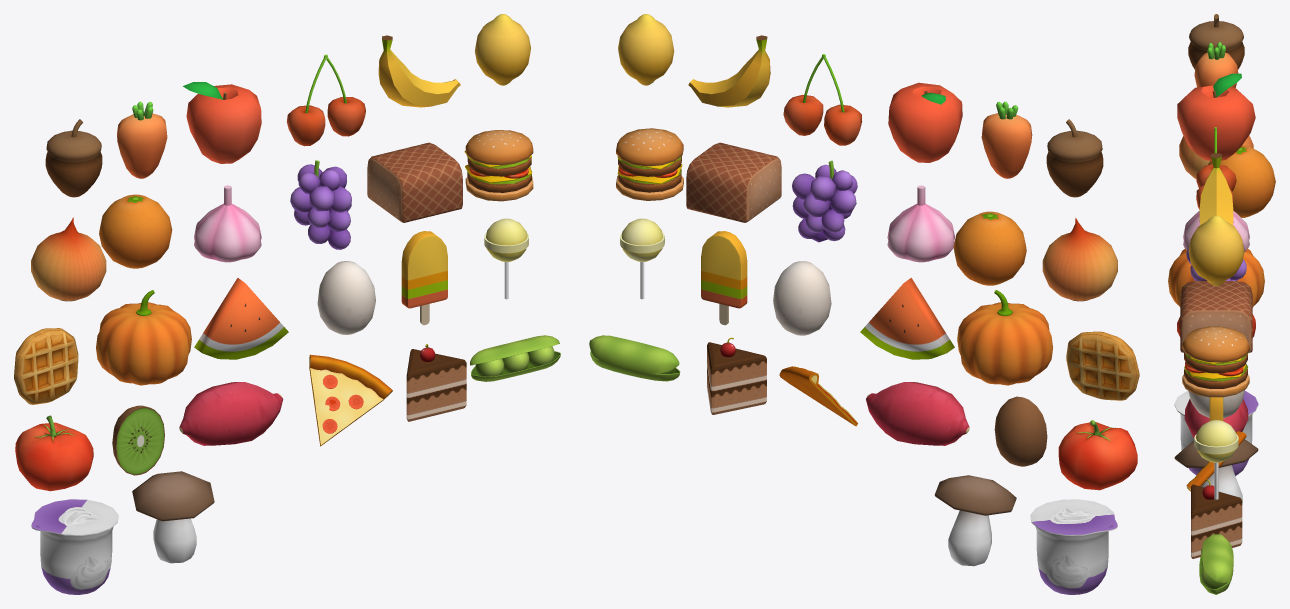
The model's file is food01.glb.
3 views of the same model, side by side, from view 1: azimuth 30°, elevation 25°; view 2: azimuth 150°, elevation 25°; view 3: azimuth 270°, elevation 25° (orthographic).
Parts seen in each view (by area): view 1: pumpkin_pumpkin_0, yogurt_yogurt_0, ham_ham_0, yam_yam_0, apple_apple_0, mushroom_mushroom_0, pizza_pizza_0, Hambuger_hambuger_0, watermelon_watermelon_0, tomato_tomato_0, onion_onion_0, orange_orange_0 (+14 smaller); view 2: pumpkin_pumpkin_0, yogurt_yogurt_0, ham_ham_0, yam_yam_0, apple_apple_0, mushroom_mushroom_0, Hambuger_hambuger_0, watermelon_watermelon_0, tomato_tomato_0, onion_onion_0, orange_orange_0, waffle_waffle_0 (+14 smaller); view 3: apple_apple_0, Hambuger_hambuger_0, ham_ham_0, lemon_lemon_0, cake_cake_0, orange_orange_0, acorn_acorn_0, pea_pea_0, candy_candy_0, mushroom_mushroom_0, pumpkin_pumpkin_0, banana_banana_0 (+10 smaller).
Boxes of the visible parts, x1,y1,x2,y2 form: pumpkin_pumpkin_0: (96,290,191,385); yogurt_yogurt_0: (31,499,118,594); ham_ham_0: (367,142,462,222); yam_yam_0: (179,382,283,445); apple_apple_0: (183,82,261,163); mushroom_mushroom_0: (132,471,214,563); pizza_pizza_0: (309,354,392,446); Hambuger_hambuger_0: (464,130,533,201); watermelon_watermelon_0: (194,278,288,359); tomato_tomato_0: (15,415,93,491); onion_onion_0: (31,217,106,301); orange_orange_0: (99,194,172,268); pumpkin_pumpkin_0: (957,290,1052,385); yogurt_yogurt_0: (1030,499,1117,594); ham_ham_0: (686,142,781,222); yam_yam_0: (866,382,969,445); apple_apple_0: (888,82,962,162); mushroom_mushroom_0: (934,475,1016,566); Hambuger_hambuger_0: (616,128,683,200); watermelon_watermelon_0: (860,277,954,359); tomato_tomato_0: (1058,420,1137,490); onion_onion_0: (1042,217,1117,301); orange_orange_0: (953,211,1026,285); waffle_waffle_0: (1066,331,1139,400); apple_apple_0: (1177,73,1255,160); Hambuger_hambuger_0: (1182,326,1249,397); ham_ham_0: (1180,281,1252,352); lemon_lemon_0: (1188,215,1244,286); cake_cake_0: (1191,479,1242,558); orange_orange_0: (1208,145,1275,217); acorn_acorn_0: (1188,14,1244,69); pea_pea_0: (1199,534,1233,594); candy_candy_0: (1194,420,1238,499); mushroom_mushroom_0: (1174,439,1258,502); pumpkin_pumpkin_0: (1168,248,1264,307); banana_banana_0: (1199,153,1233,225).
Size of the model in its own units: 7.36 by 6.05 by 1.27.
Materials: 26 (26 with a texture image).
